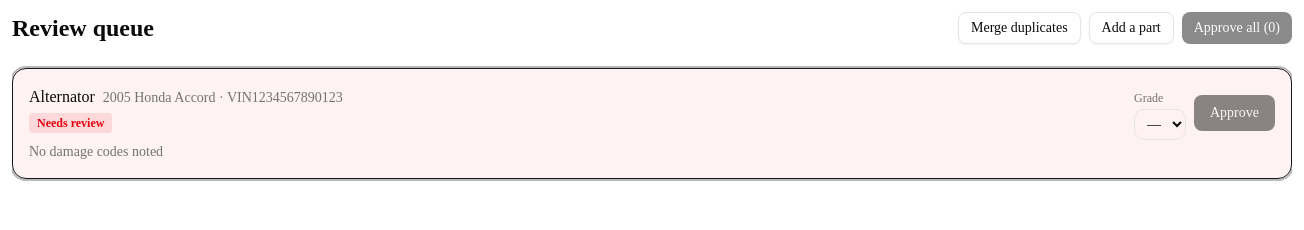
Test: ReviewQueuePage › a manually-added part (no photo, no AI analysis) records a manual grade instead of a correction, then approves
Expected: the button "Approve" is disabled, [1194, 94, 1275, 130]
Select "B" in the dropdown labelled "Grade". click: (1160, 124)
box: [1134, 109, 1186, 140]
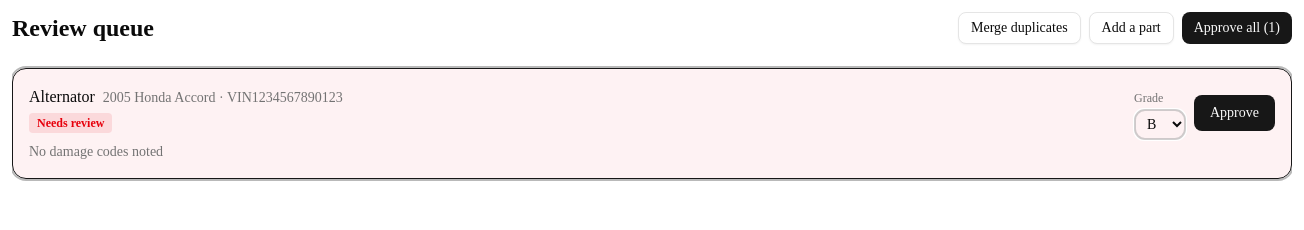
Click the button "Approve". click: (1234, 112)
box: [1194, 94, 1275, 130]
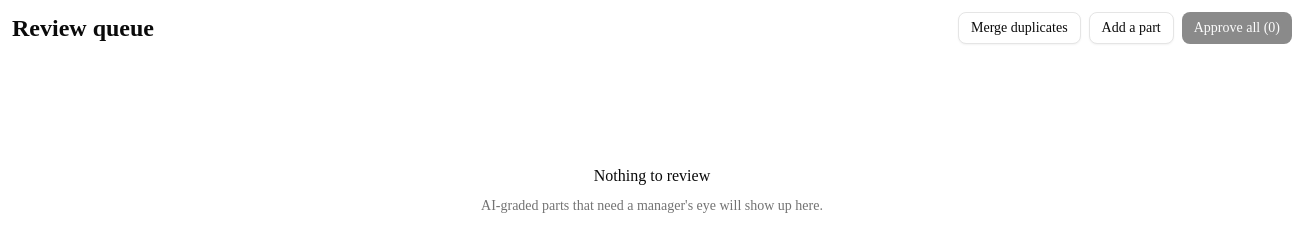
Expected: the option with test id "review-item-part-1" is gone
